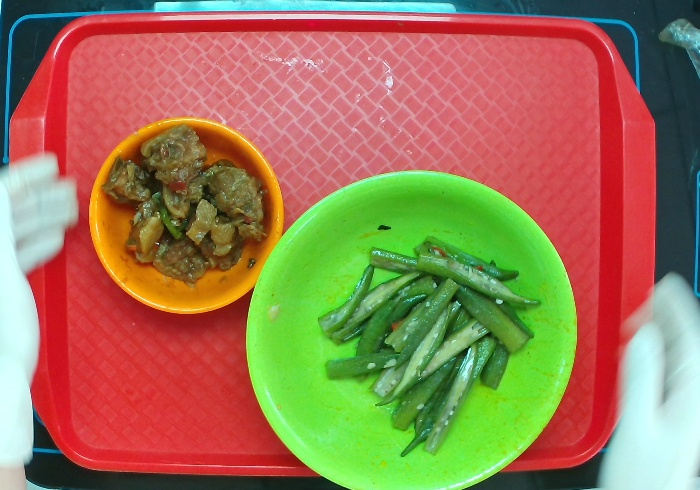YKMZ-Ju_Se_Yuan_Wan: (77, 109, 286, 319)
YKMZ-Lv_Se_Tang_Wan: (232, 167, 584, 489)
